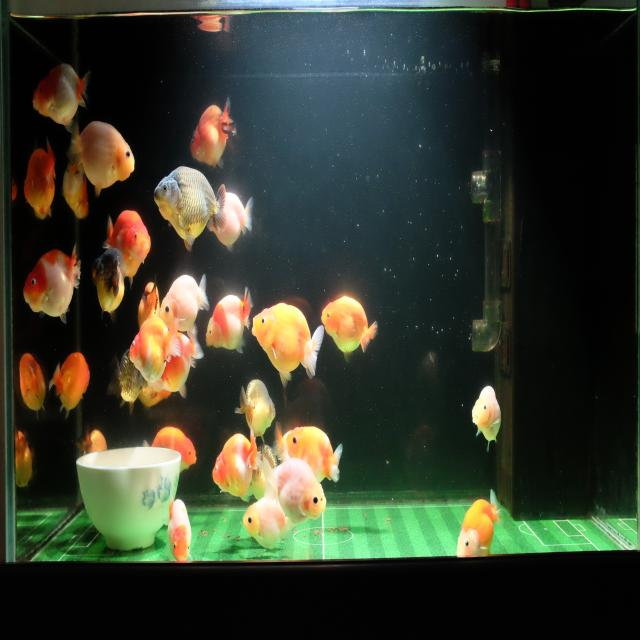Goldfish: (153, 164, 228, 254), (251, 301, 324, 387), (67, 117, 135, 196), (256, 454, 328, 528), (22, 241, 82, 327), (32, 61, 93, 133), (127, 311, 182, 386), (102, 206, 151, 290), (320, 295, 378, 364), (148, 332, 205, 401), (188, 94, 238, 172), (285, 424, 345, 486), (211, 429, 260, 500), (455, 488, 503, 560), (158, 273, 209, 339), (206, 285, 252, 357), (242, 493, 296, 552), (48, 350, 92, 422), (22, 139, 58, 223), (208, 188, 255, 251), (105, 344, 145, 417), (234, 375, 277, 442), (140, 426, 197, 475), (92, 245, 125, 324), (470, 379, 503, 454), (18, 350, 46, 423), (164, 497, 194, 564), (62, 153, 89, 222), (13, 429, 34, 494), (75, 428, 108, 459)
